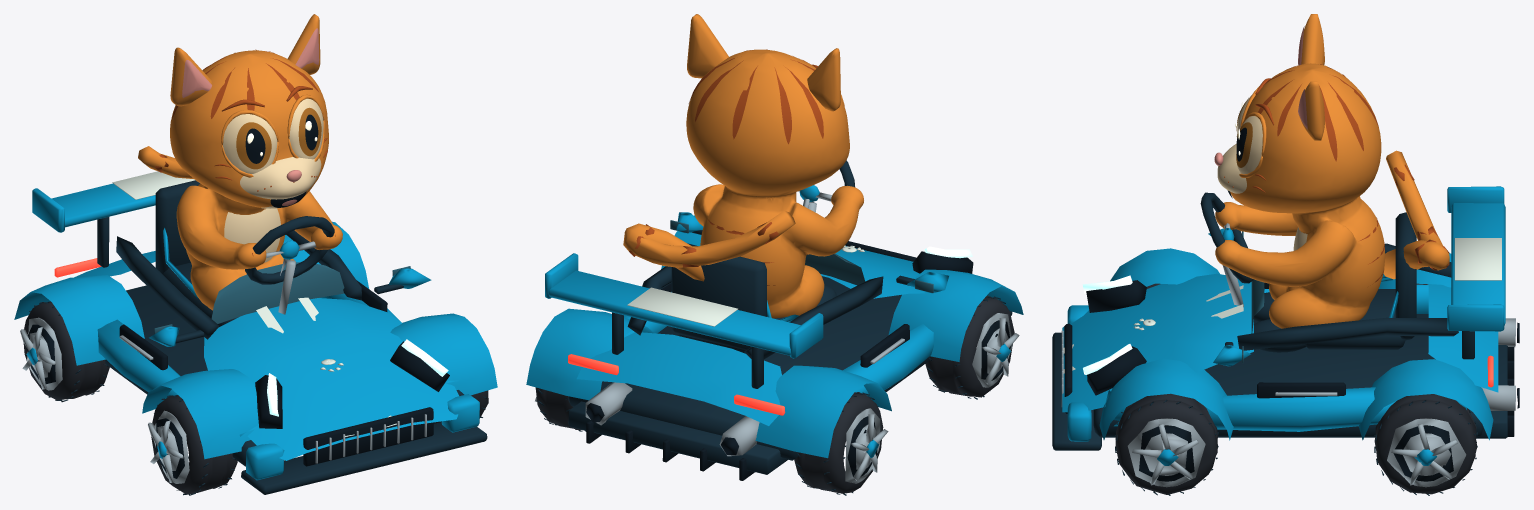
File: race-quest-cat-sport-low.glb
3 views of the same model, side by side, from view 1: azimuth 30°, elevation 25°; view 2: azimuth 150°, elevation 25°; view 3: azimuth 270°, elevation 25° (orthographic). The views are drawn at different scales.
Parts seen in each view (by area): view 1: body_suspension_01_Ceramic_cyan_paint, driver_10_Golden_tabby_fur, body_suspension_02_Deep_petrol_trim, body_suspension_06_Grille_pupil, driver_11_Cream_muzzle, body_suspension_07_Smoked_blue_glass, wheel_fl_spin_04_Satin_rubber, wheel_rl_spin_04_Satin_rubber, eyes_11_Cream_muzzle, body_suspension_03_Pearl_stripe, wheel_rl_spin_05_Machined_titanium, wheel_fl_spin_05_Machined_titanium (+9 smaller); view 2: body_suspension_01_Ceramic_cyan_paint, driver_10_Golden_tabby_fur, body_suspension_02_Deep_petrol_trim, tail_10_Golden_tabby_fur, body_suspension_06_Grille_pupil, wheel_rl_spin_04_Satin_rubber, wheel_fl_spin_04_Satin_rubber, body_suspension_03_Pearl_stripe, body_suspension_05_Machined_titanium, driver_12_Burnished_tabby_mark, wheel_fl_spin_05_Machined_titanium, wheel_rl_spin_05_Machined_titanium (+5 smaller); view 3: body_suspension_01_Ceramic_cyan_paint, driver_10_Golden_tabby_fur, body_suspension_02_Deep_petrol_trim, body_suspension_06_Grille_pupil, wheel_fr_spin_04_Satin_rubber, wheel_rr_spin_04_Satin_rubber, tail_10_Golden_tabby_fur, wheel_rr_spin_05_Machined_titanium, wheel_fr_spin_05_Machined_titanium, body_suspension_03_Pearl_stripe, body_suspension_05_Machined_titanium, driver_12_Burnished_tabby_mark (+9 smaller).
Part boxes in pixels (x1=…): body_suspension_01_Ceramic_cyan_paint: x1=14, y1=183, x2=497, y2=480; driver_10_Golden_tabby_fur: x1=170, y1=50, x2=342, y2=310; body_suspension_02_Deep_petrol_trim: x1=97, y1=180, x2=487, y2=494; body_suspension_06_Grille_pupil: x1=119, y1=280, x2=449, y2=466; driver_11_Cream_muzzle: x1=224, y1=157, x2=321, y2=262; body_suspension_07_Smoked_blue_glass: x1=154, y1=262, x2=410, y2=333; wheel_fl_spin_04_Satin_rubber: x1=151, y1=395, x2=237, y2=494; wheel_rl_spin_04_Satin_rubber: x1=23, y1=301, x2=109, y2=400; eyes_11_Cream_muzzle: x1=223, y1=98, x2=323, y2=173; body_suspension_03_Pearl_stripe: x1=112, y1=171, x2=396, y2=436; wheel_rl_spin_05_Machined_titanium: x1=20, y1=317, x2=62, y2=390; wheel_fl_spin_05_Machined_titanium: x1=148, y1=410, x2=189, y2=483; body_suspension_01_Ceramic_cyan_paint: x1=526, y1=185, x2=1023, y2=458; driver_10_Golden_tabby_fur: x1=686, y1=49, x2=863, y2=318; body_suspension_02_Deep_petrol_trim: x1=568, y1=160, x2=1012, y2=474; tail_10_Golden_tabby_fur: x1=623, y1=210, x2=795, y2=281; body_suspension_06_Grille_pupil: x1=586, y1=241, x2=973, y2=480; wheel_rl_spin_04_Satin_rubber: x1=794, y1=392, x2=883, y2=493; wheel_fl_spin_04_Satin_rubber: x1=925, y1=295, x2=1014, y2=397; body_suspension_03_Pearl_stripe: x1=627, y1=245, x2=864, y2=326; body_suspension_05_Machined_titanium: x1=585, y1=191, x2=904, y2=456; driver_12_Burnished_tabby_mark: x1=688, y1=49, x2=823, y2=285; wheel_fl_spin_05_Machined_titanium: x1=972, y1=313, x2=1019, y2=387; wheel_rl_spin_05_Machined_titanium: x1=845, y1=408, x2=888, y2=483; body_suspension_01_Ceramic_cyan_paint: x1=1062, y1=186, x2=1505, y2=441; driver_10_Golden_tabby_fur: x1=1215, y1=63, x2=1385, y2=328; body_suspension_02_Deep_petrol_trim: x1=1052, y1=192, x2=1507, y2=450; body_suspension_06_Grille_pupil: x1=1064, y1=280, x2=1519, y2=436; wheel_fr_spin_04_Satin_rubber: x1=1115, y1=393, x2=1218, y2=494; wheel_rr_spin_04_Satin_rubber: x1=1374, y1=394, x2=1477, y2=494; tail_10_Golden_tabby_fur: x1=1383, y1=150, x2=1449, y2=279; wheel_rr_spin_05_Machined_titanium: x1=1387, y1=418, x2=1466, y2=487; wheel_fr_spin_05_Machined_titanium: x1=1127, y1=418, x2=1205, y2=487; body_suspension_03_Pearl_stripe: x1=1063, y1=238, x2=1501, y2=373; body_suspension_05_Machined_titanium: x1=1061, y1=223, x2=1515, y2=410; driver_12_Burnished_tabby_mark: x1=1216, y1=64, x2=1384, y2=282.
Size of the model in its own units: 1.53 by 1.67 by 1.87.
